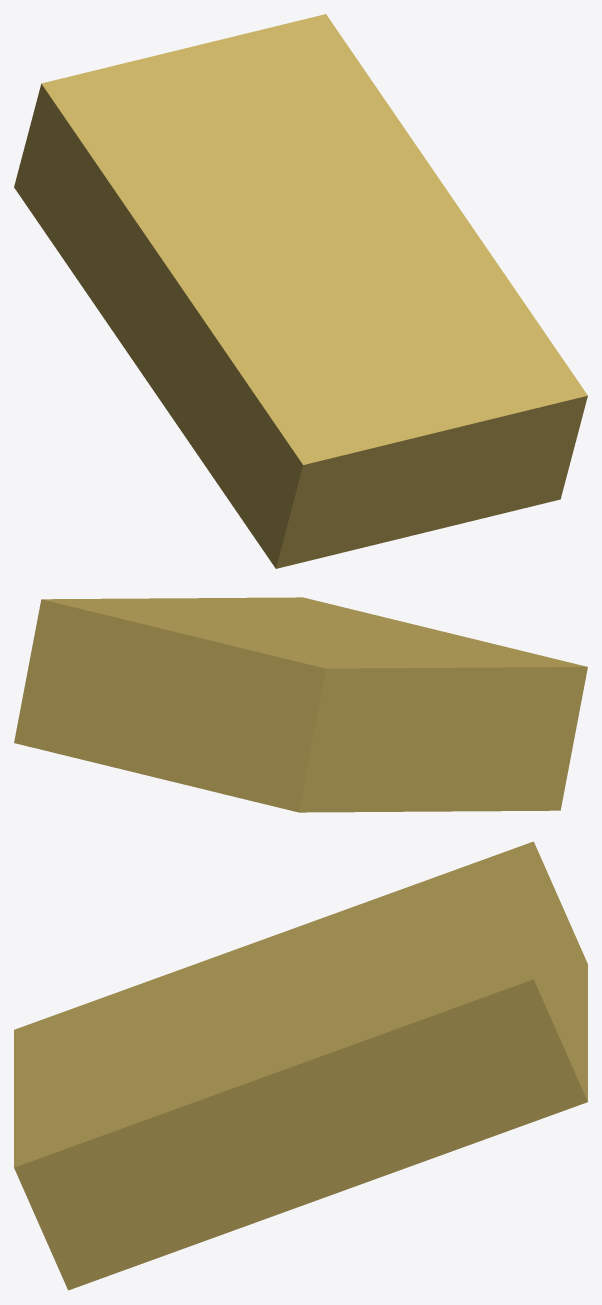
Rendered from yellow3.fbx.
The picture shows the model from 3 angles, top to bottom: view 1: azimuth 30°, elevation 25°; view 2: azimuth 150°, elevation 25°; view 3: azimuth 270°, elevation 25°; orthographic projection.
Visible parts, largest first — view 1: Object_1; view 2: Object_1; view 3: Object_1.
Boxes of the visible parts, x1,y1,x2,y2 form: Object_1: [14, 14, 587, 568]; Object_1: [14, 597, 587, 812]; Object_1: [14, 841, 587, 1290].
Bounding box in the file's own units: 1.14 × 2 × 1.2.
